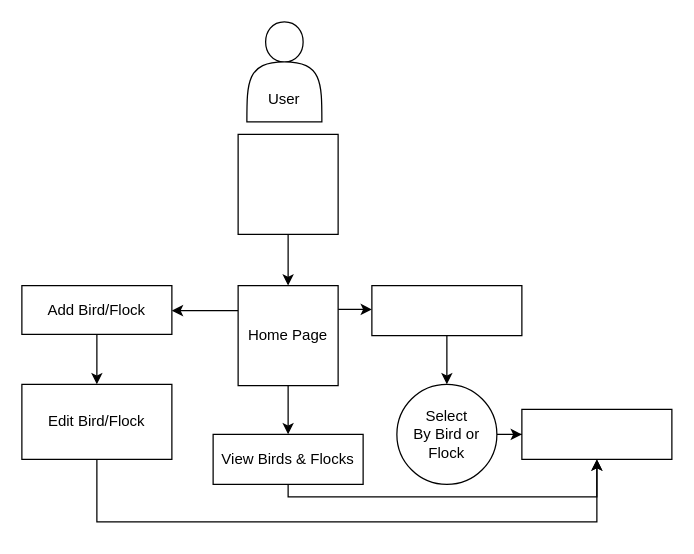
Some shapes in this 694 by 554 pixel diagram are drawn without their labels. Here are the shapes that lost their labels. From the top down, the centre of each, then its label:
At point (287, 183): "Splash".
At point (446, 310): "Add Daily Eggs".
At point (596, 433): "View Egg Yield".
